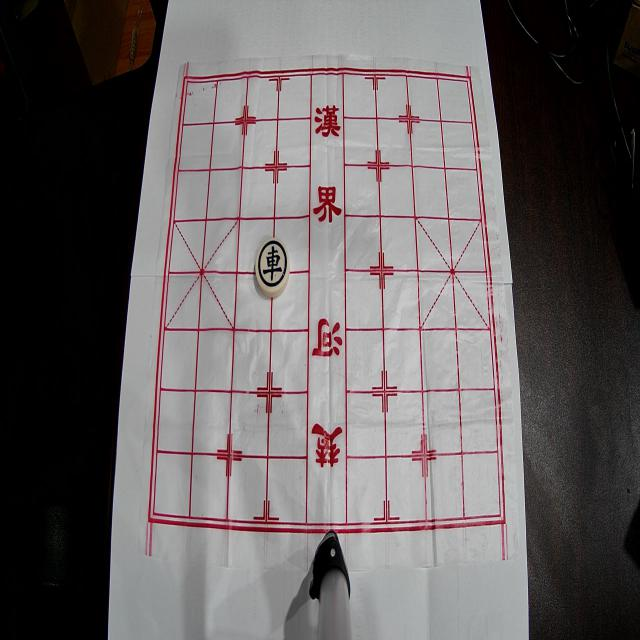black-chariot: (255, 238, 290, 297)
